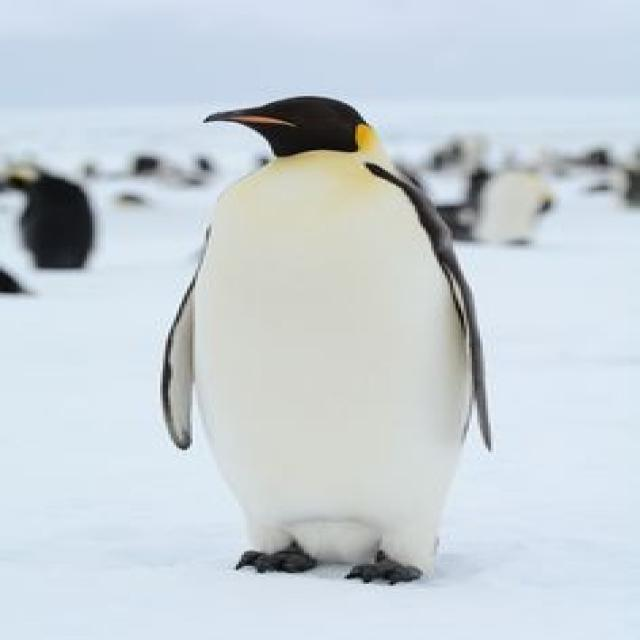Carnivorous: (160, 96, 494, 586)
